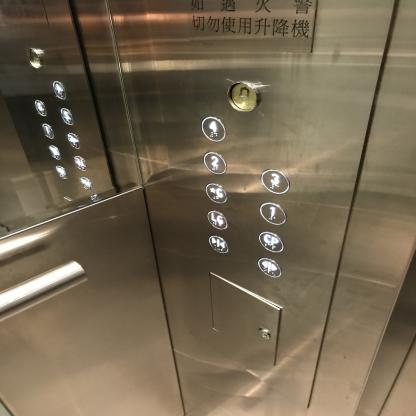1: (258, 201, 287, 226)
2: (202, 150, 227, 175)
3: (260, 168, 290, 195)
4: (200, 115, 226, 142)
CP: (257, 231, 284, 254)
LG: (206, 208, 228, 230)
alarm: (224, 80, 261, 113)
close: (207, 234, 230, 254), (78, 175, 93, 191)
open: (256, 256, 282, 279)
sG: (203, 181, 228, 204)
unknown: (26, 48, 43, 70), (51, 80, 67, 100), (66, 131, 82, 150), (59, 107, 75, 126), (73, 154, 88, 171), (40, 122, 55, 139), (33, 99, 48, 116), (48, 144, 62, 160), (54, 164, 67, 179)
